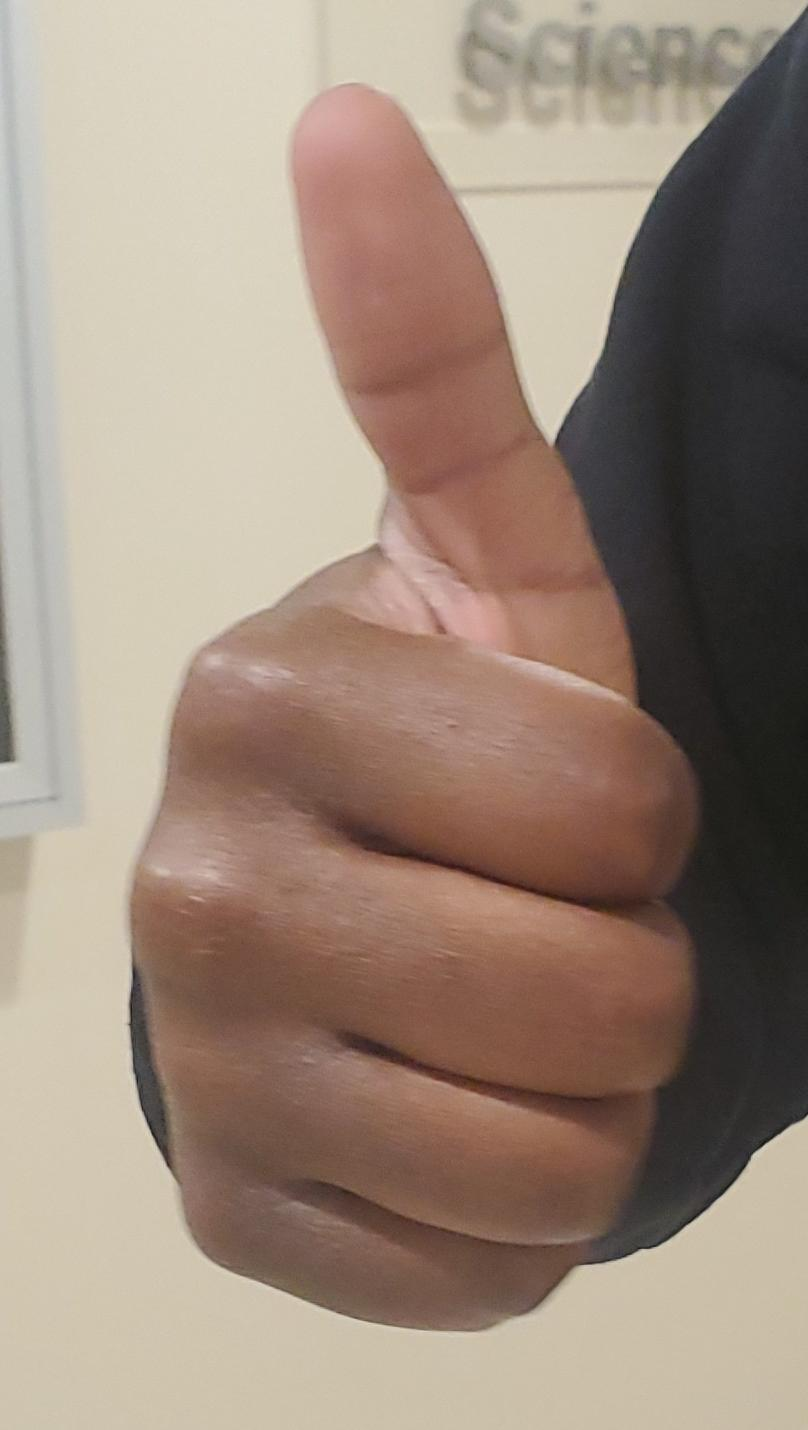up: (0, 1, 808, 1430)
